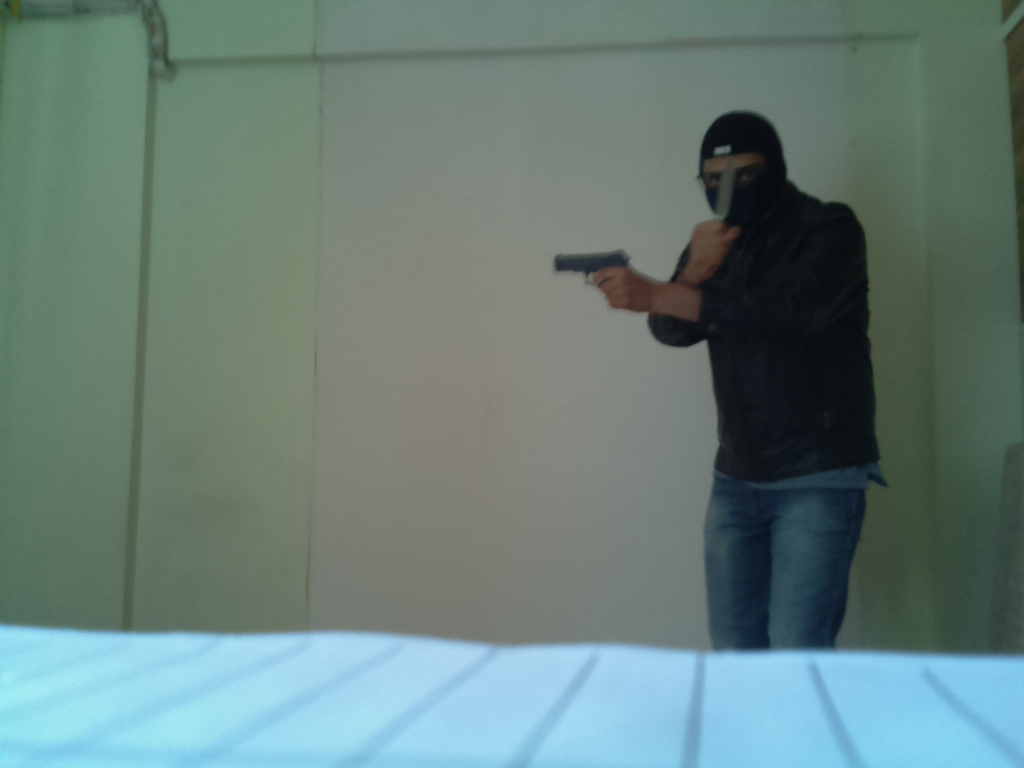gun: (547, 254, 635, 299)
